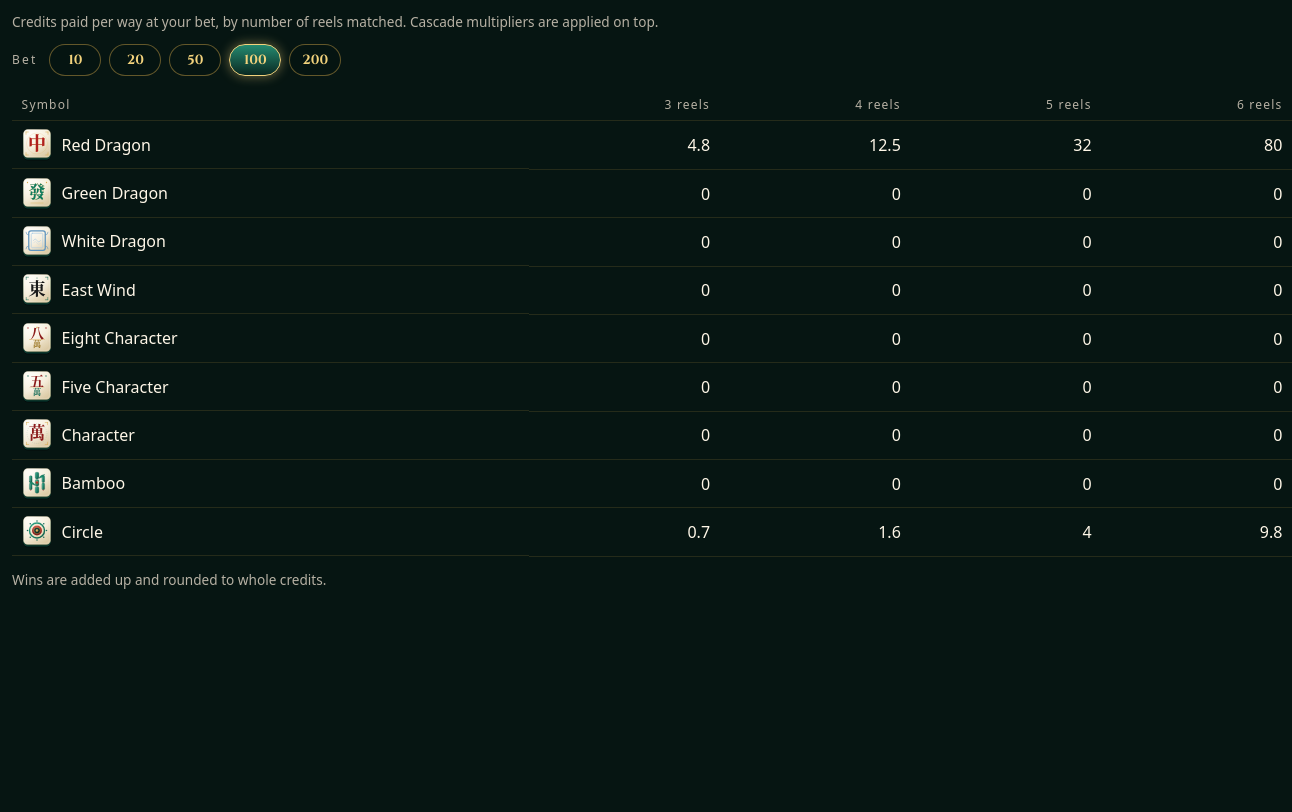
Scenario: Paytable › shows credits per way for the selected bet
This screenshot has width=1292, height=812.
Check: the cell with test id "pay-red-dragon-3" reads "4.8", box x1=688 y1=134 x2=710 y2=156
Check: the cell with test id "pay-red-dragon-6" reads "80", box x1=1264 y1=134 x2=1282 y2=156
Click the button "10" at point(75, 60), box x1=49 y1=44 x2=101 y2=76
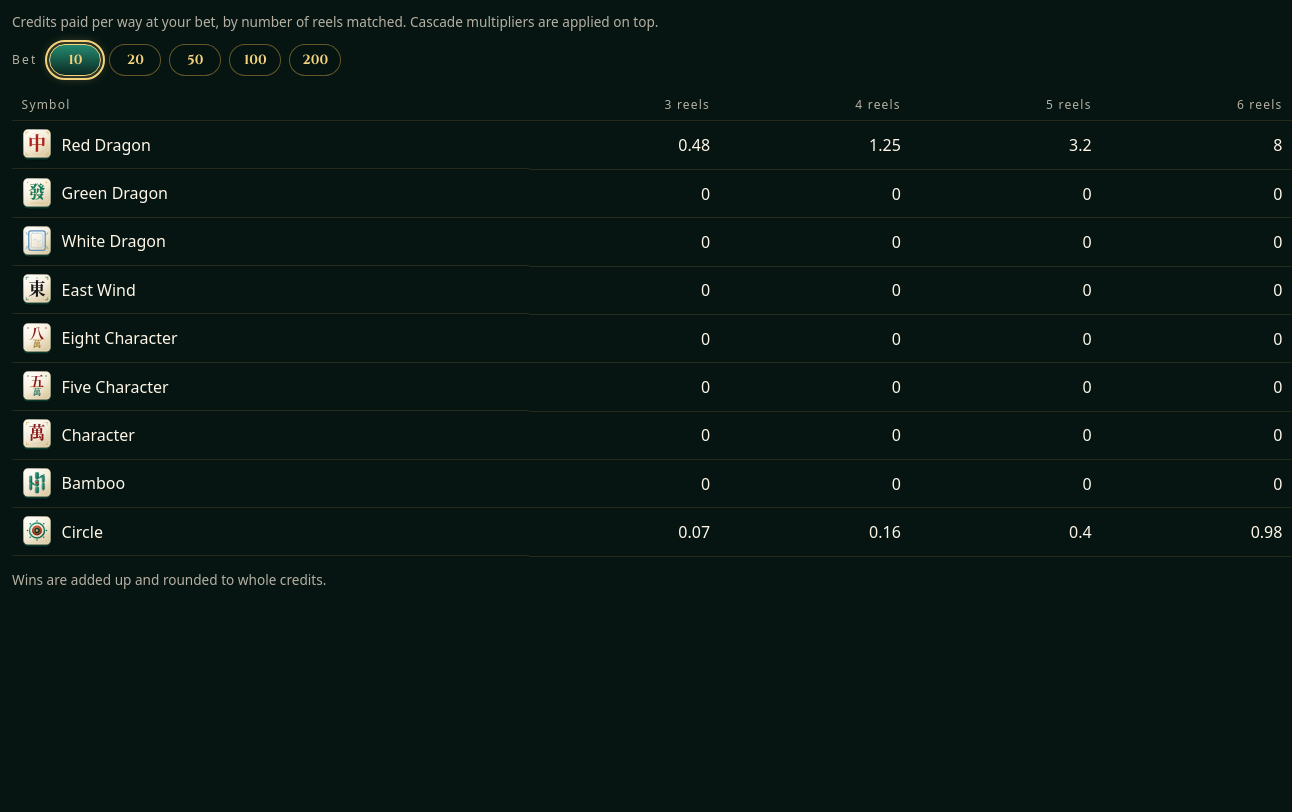
Check: the cell with test id "pay-red-dragon-3" reads "0.48", box x1=678 y1=134 x2=710 y2=156
Check: the cell with test id "pay-circle-3" reads "0.07", box x1=678 y1=521 x2=710 y2=543
